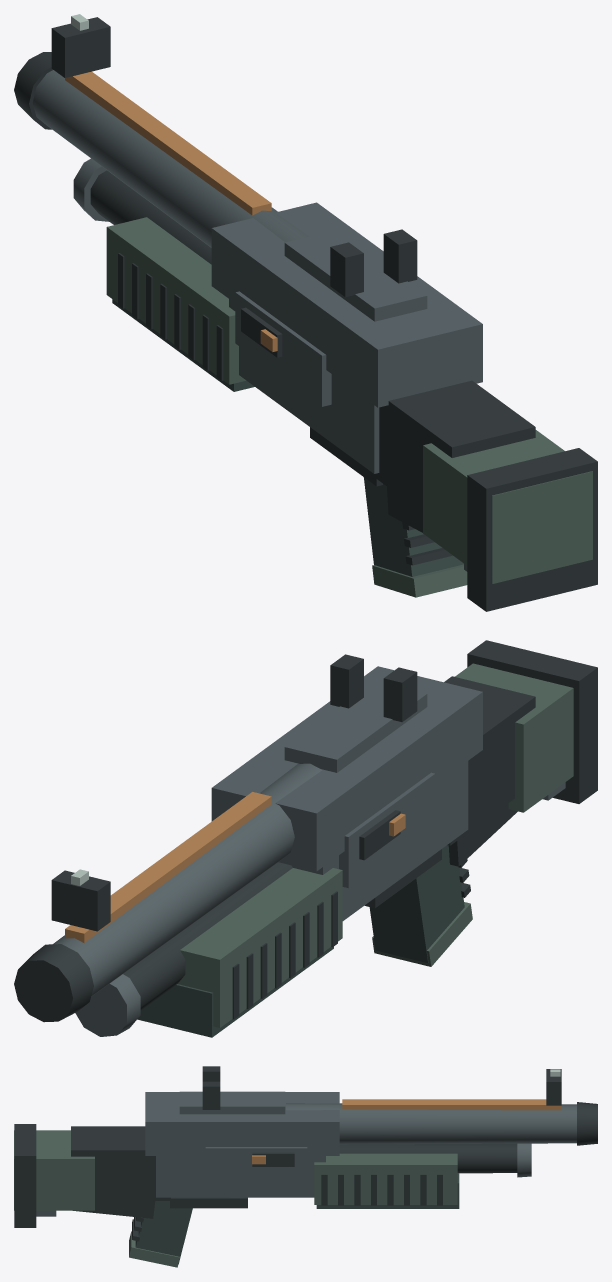
The model's file is harrier.glb.
The picture shows the model from 3 angles, top to bottom: view 1: azimuth 30°, elevation 25°; view 2: azimuth 150°, elevation 25°; view 3: azimuth 270°, elevation 25°; orthographic projection. The views are drawn at different scales.
Visible parts, largest first — view 1: Harrier_vm_gunmetal, Harrier_vm_gundark, Harrier_vm_polymerLight, Harrier_vm_accent, Harrier_vm_polymer; view 2: Harrier_vm_gunmetal, Harrier_vm_gundark, Harrier_vm_polymerLight, Harrier_vm_polymer, Harrier_vm_accent; view 3: Harrier_vm_gunmetal, Harrier_vm_gundark, Harrier_vm_polymerLight, Harrier_vm_polymer, Harrier_vm_accent.
Part boxes in pixels (x1=…): Harrier_vm_gunmetal: x1=32, y1=70, x2=482, y2=571; Harrier_vm_gundark: x1=14, y1=17, x2=597, y2=611; Harrier_vm_polymerLight: x1=106, y1=217, x2=592, y2=597; Harrier_vm_accent: x1=65, y1=71, x2=277, y2=351; Harrier_vm_polymer: x1=112, y1=299, x2=463, y2=576; Harrier_vm_gunmetal: x1=53, y1=666, x2=565, y2=1036; Harrier_vm_gundark: x1=14, y1=640, x2=597, y2=1022; Harrier_vm_polymerLight: x1=178, y1=663, x2=573, y2=1027; Harrier_vm_polymer: x1=137, y1=845, x2=464, y2=1037; Harrier_vm_accent: x1=65, y1=792, x2=405, y2=942; Harrier_vm_gunmetal: x1=36, y1=1091, x2=576, y2=1216; Harrier_vm_gundark: x1=14, y1=1066, x2=597, y2=1241; Harrier_vm_polymerLight: x1=14, y1=1130, x2=457, y2=1267; Harrier_vm_polymer: x1=135, y1=1173, x2=459, y2=1264; Harrier_vm_accent: x1=252, y1=1099, x2=561, y2=1164.
Size of the model in its own units: 0.18 by 0.4169 by 1.17.
